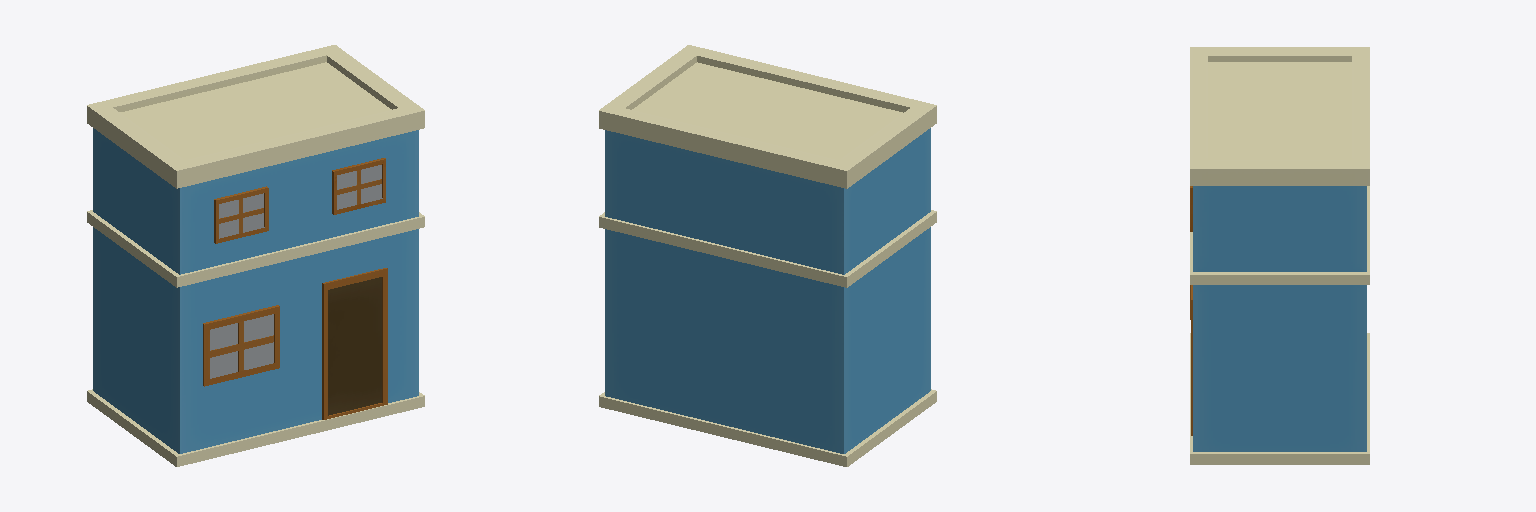
The picture shows the model from 3 angles: view 1: azimuth 30°, elevation 25°; view 2: azimuth 150°, elevation 25°; view 3: azimuth 270°, elevation 25°; orthographic projection.
Visible parts, largest first — view 1: Cube, Cube.1, Cube.5, Cube.2, Cube.3, Cube.18_2, Cube.19_2, Cube.18, Cube.18_1, Cube.19_1, Cube.19; view 2: Cube, Cube.1, Cube.2, Cube.3; view 3: Cube, Cube.1, Cube.3, Cube.2.
Boxes of the visible parts, box(x1,y1,x2,y2) form: Cube: box(93, 128, 418, 453); Cube.1: box(87, 45, 424, 188); Cube.5: box(322, 268, 387, 419); Cube.2: box(87, 210, 424, 287); Cube.3: box(87, 389, 424, 466); Cube.18_2: box(210, 314, 273, 378); Cube.19_2: box(203, 305, 279, 386); Cube.18: box(337, 165, 382, 209); Cube.18_1: box(219, 193, 264, 238); Cube.19_1: box(214, 186, 268, 243); Cube.19: box(332, 158, 385, 214); Cube: box(605, 128, 930, 453); Cube.1: box(599, 45, 936, 188); Cube.2: box(599, 210, 936, 287); Cube.3: box(599, 389, 936, 466); Cube: box(1193, 186, 1366, 451); Cube.1: box(1190, 47, 1369, 185); Cube.3: box(1190, 333, 1369, 464); Cube.2: box(1190, 186, 1369, 284).
Bounding box in the file's own units: 178 × 202 × 112.
Materials: 1 (1 with a texture image).